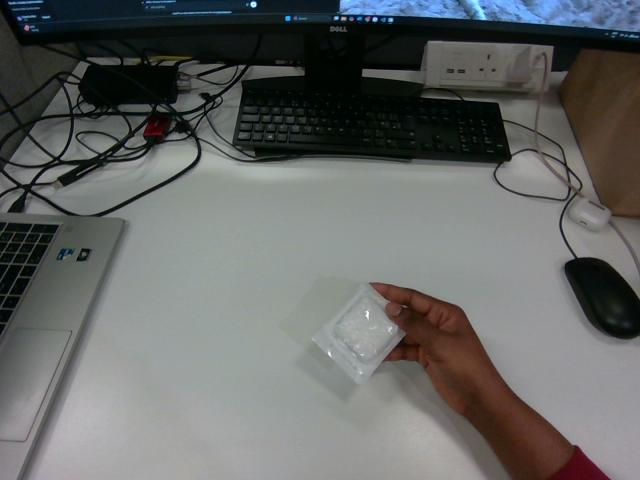gauze: (312, 284, 404, 383)
